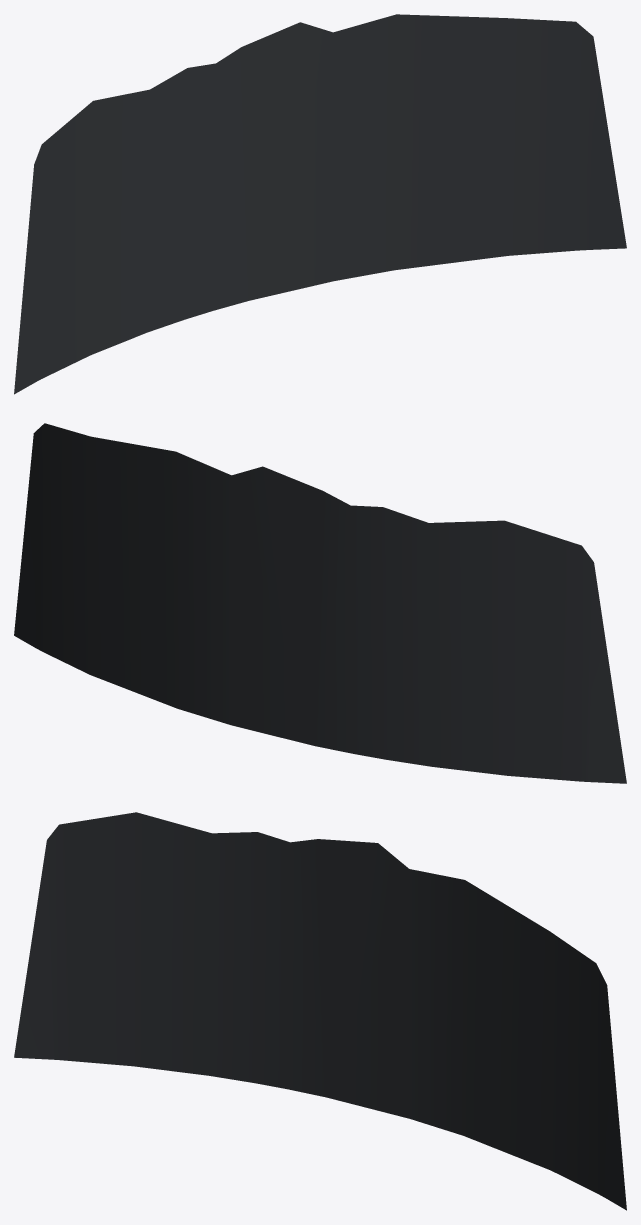
The model's file is bg-range-a.glb.
3 renders of one model, top to bottom at view 1: azimuth 30°, elevation 25°; view 2: azimuth 150°, elevation 25°; view 3: azimuth 330°, elevation 25°, orthographic.
Visible parts, largest first — view 1: SM_Gen_Env_Background_Mountain_01; view 2: SM_Gen_Env_Background_Mountain_01; view 3: SM_Gen_Env_Background_Mountain_01.
Part boxes in pixels (box(x1,y1,x2,y2)): SM_Gen_Env_Background_Mountain_01: box(14, 14, 626, 394); SM_Gen_Env_Background_Mountain_01: box(14, 423, 626, 783); SM_Gen_Env_Background_Mountain_01: box(14, 812, 626, 1210).
Size of the model in its own units: 95.11 by 39.73 by 10.59.
Materials: 1 (1 with a texture image).
